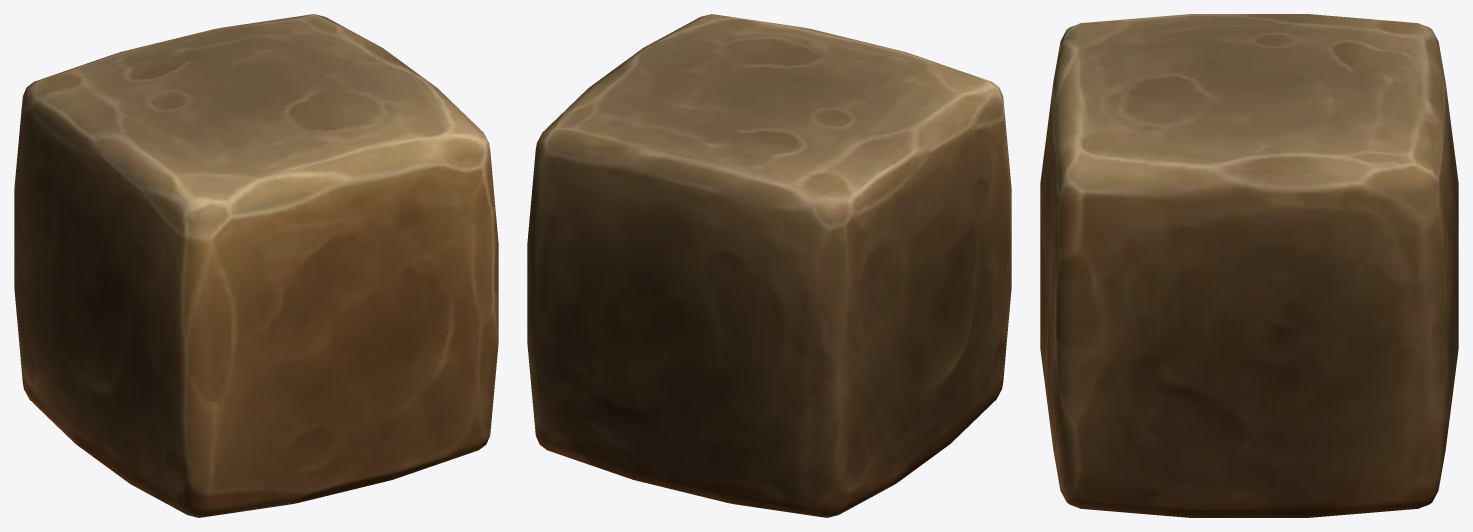
Rendered from sand.glb.
The picture shows the model from 3 angles, left to right: view 1: azimuth 30°, elevation 25°; view 2: azimuth 150°, elevation 25°; view 3: azimuth 270°, elevation 25°; orthographic projection. The views are drawn at different scales.
Parts seen in each view (by area): view 1: defaultMaterial; view 2: defaultMaterial; view 3: defaultMaterial.
Part boxes in pixels (box(x1,y1,x2,y2)): defaultMaterial: box(14, 14, 498, 517); defaultMaterial: box(527, 14, 1011, 517); defaultMaterial: box(1040, 14, 1458, 517).
Size of the model in its own units: 215 by 215 by 215.
1 material, 1 textured.
